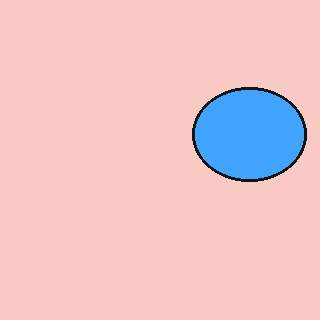circle_target: (192, 87, 307, 182)
